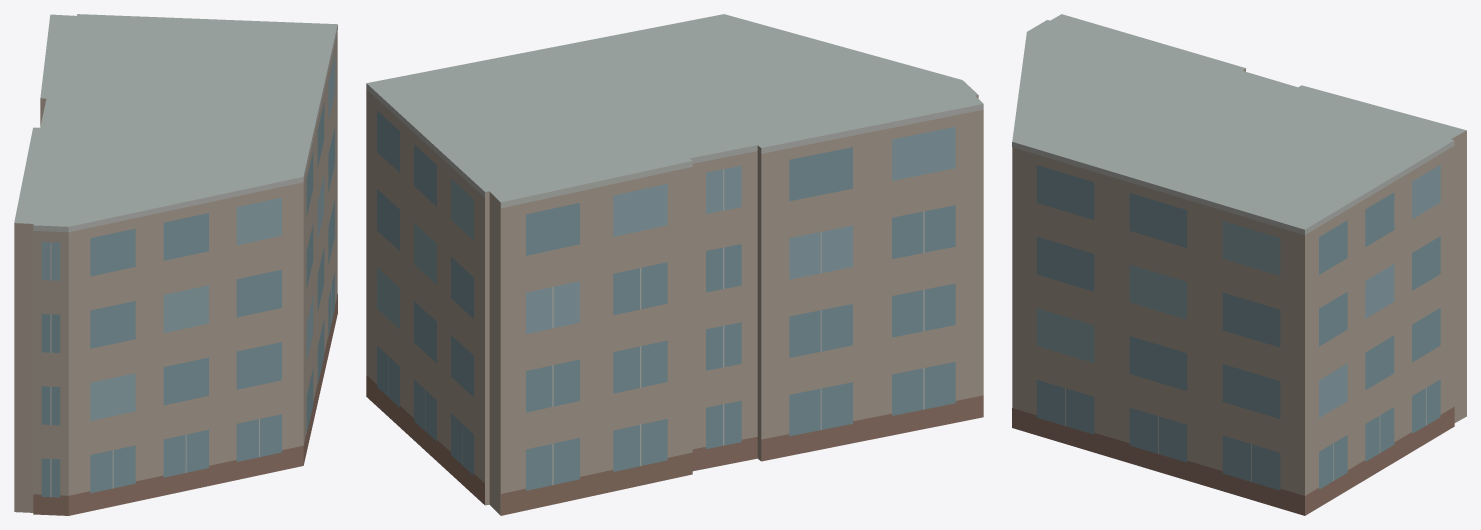
Rendered from survey-upis-32807950.glb.
3 renders of one model, left to right at view 1: azimuth 30°, elevation 25°; view 2: azimuth 150°, elevation 25°; view 3: azimuth 270°, elevation 25°, orthographic. The views are drawn at different scales.
Visible parts, largest first — view 1: survey-upis-32807950.tmp; view 2: survey-upis-32807950.tmp; view 3: survey-upis-32807950.tmp.
Boxes of the visible parts, x1,y1,x2,y2 form: survey-upis-32807950.tmp: [14, 14, 337, 515]; survey-upis-32807950.tmp: [366, 14, 983, 515]; survey-upis-32807950.tmp: [1012, 14, 1466, 515].
Size of the model in its own units: 21.03 by 13 by 18.73.
